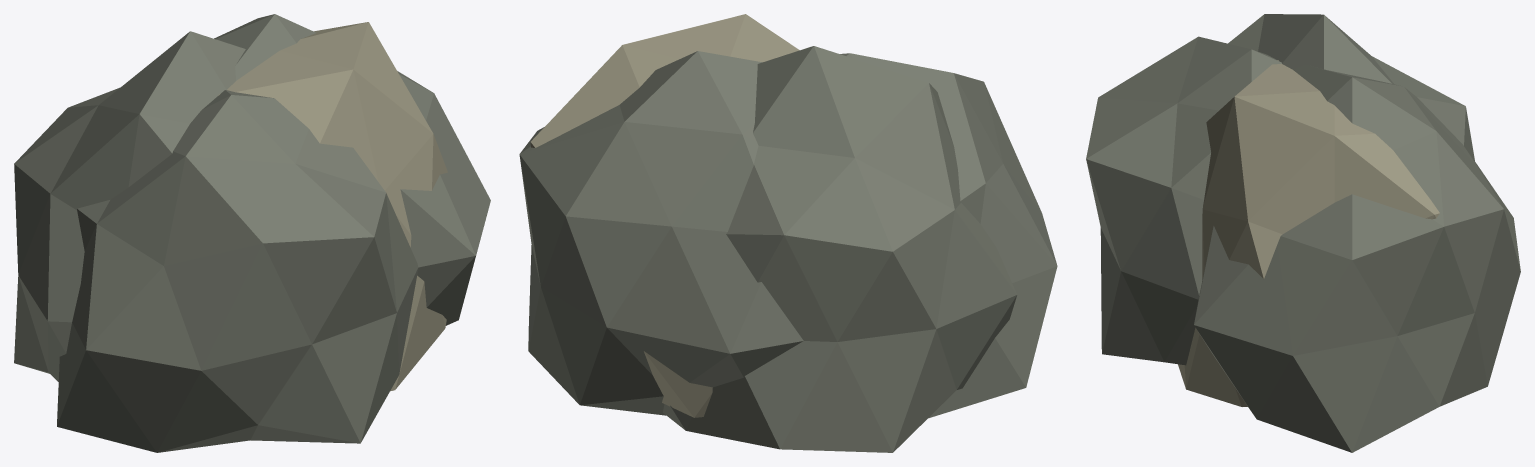
File: boulder.glb
3 views of the same model, side by side, from view 1: azimuth 30°, elevation 25°; view 2: azimuth 150°, elevation 25°; view 3: azimuth 270°, elevation 25° (orthographic). The views are drawn at different scales.
Parts seen in each view (by area): view 1: Limestone, Stone ledges; view 2: Limestone, Stone ledges; view 3: Limestone, Stone ledges.
Part boxes in pixels (x1,y1,x2,y2): Limestone: (14, 14, 490, 452); Stone ledges: (218, 22, 447, 391); Limestone: (519, 46, 1057, 452); Stone ledges: (530, 14, 799, 417); Limestone: (1086, 14, 1520, 452); Stone ledges: (1178, 60, 1439, 406).
Bounding box in the file's own units: 1.53 × 1.08 × 1.35.
